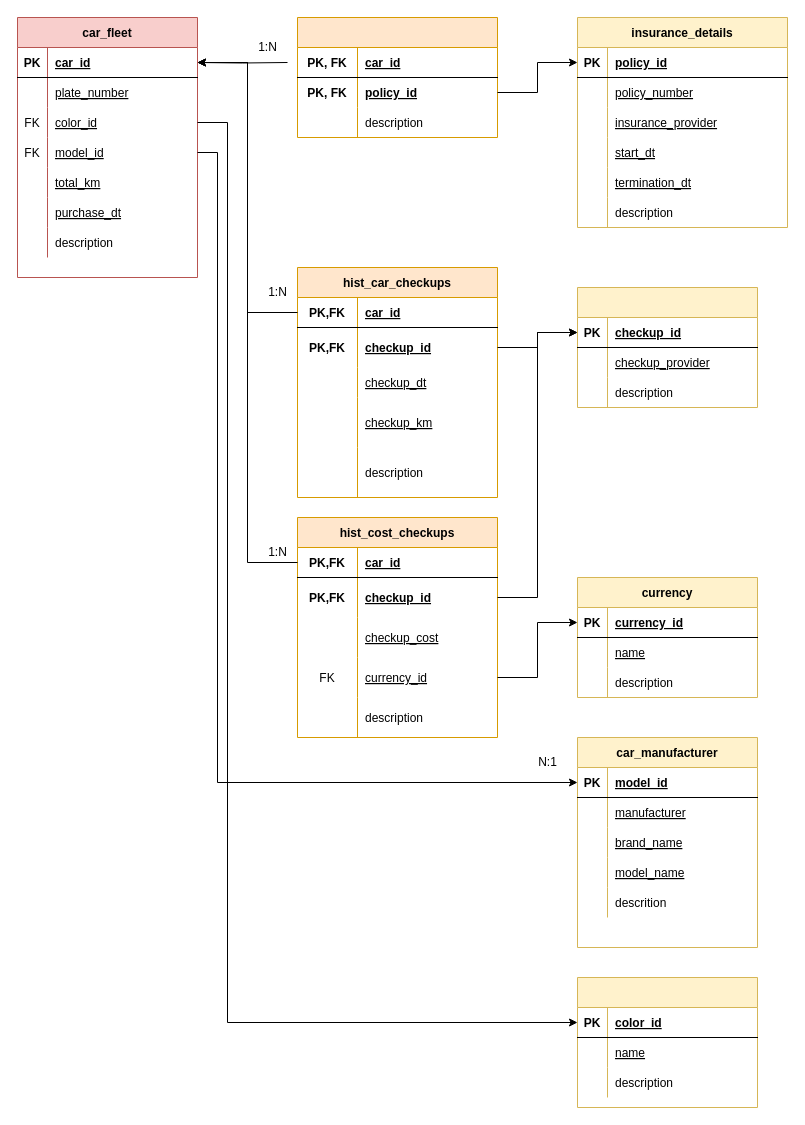
Some shapes in this 805 by 1125 pixel diagram are drawn without their labels. The box of each missing label's shape, as (x1, y1, x2, y2) in pixels:
checkups: (576, 286, 758, 408)
color_codes: (576, 976, 758, 1108)
hist_car_insurance: (296, 16, 498, 138)
